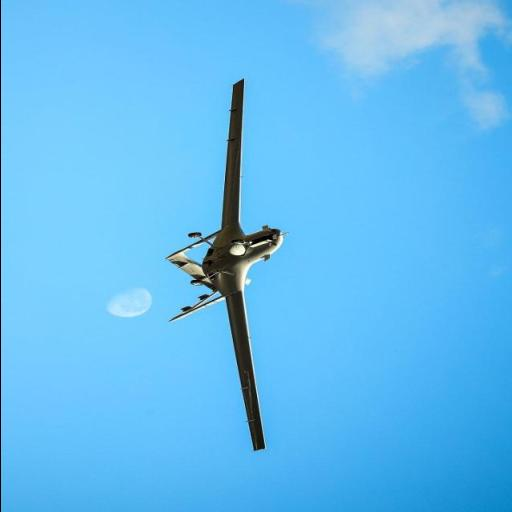uav: (165, 72, 288, 458)
